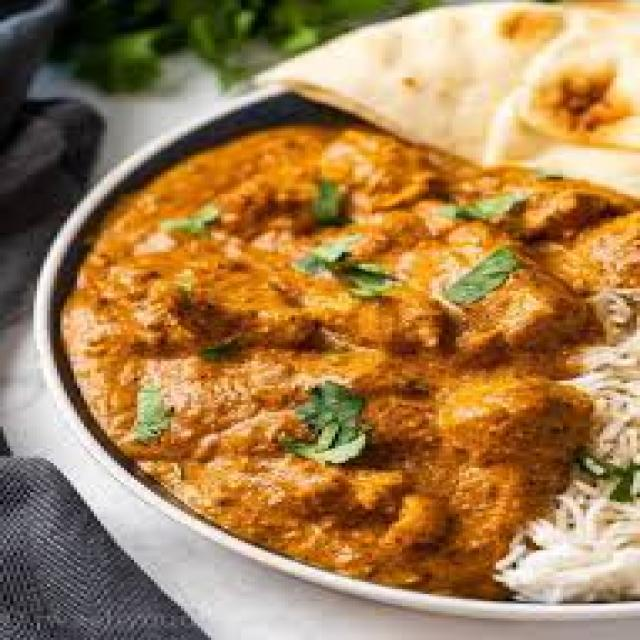Butter Chicken: (60, 120, 640, 598)
